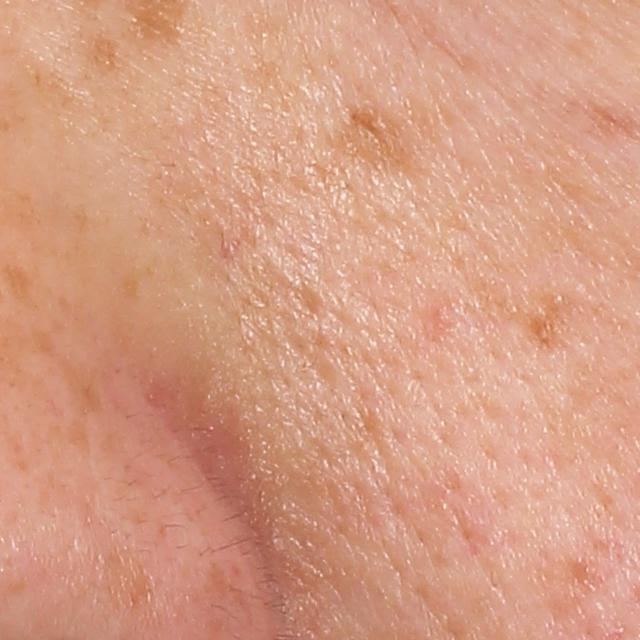melasma: (336, 101, 450, 180), (520, 306, 586, 354), (78, 26, 124, 73), (1, 262, 39, 311)
